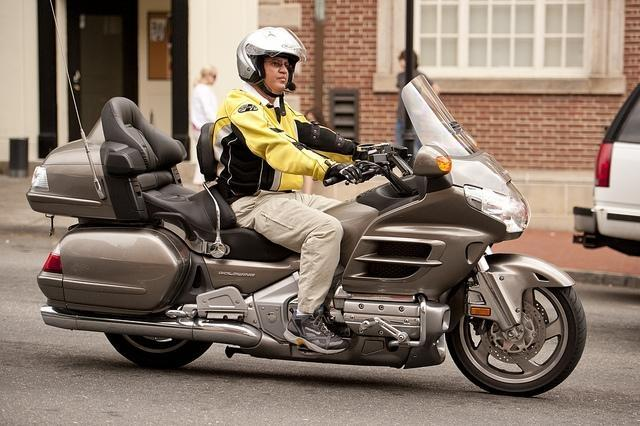car: (573, 83, 640, 256)
motorcycle: (25, 74, 588, 398)
